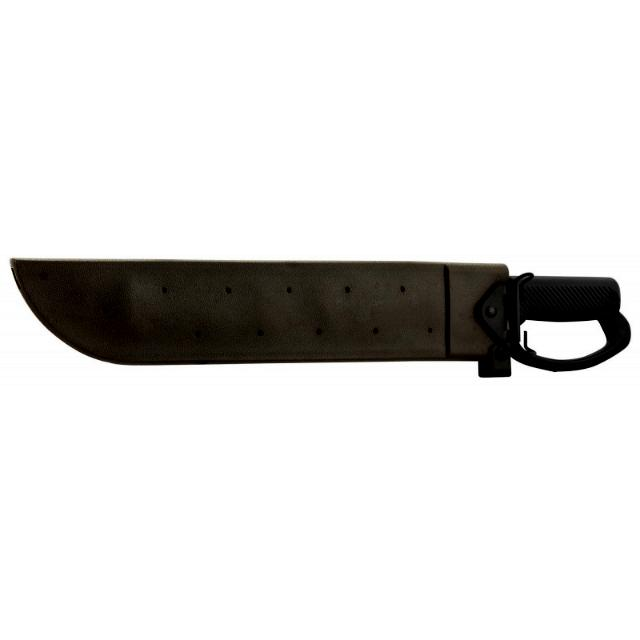long knife: (19, 226, 618, 396)
